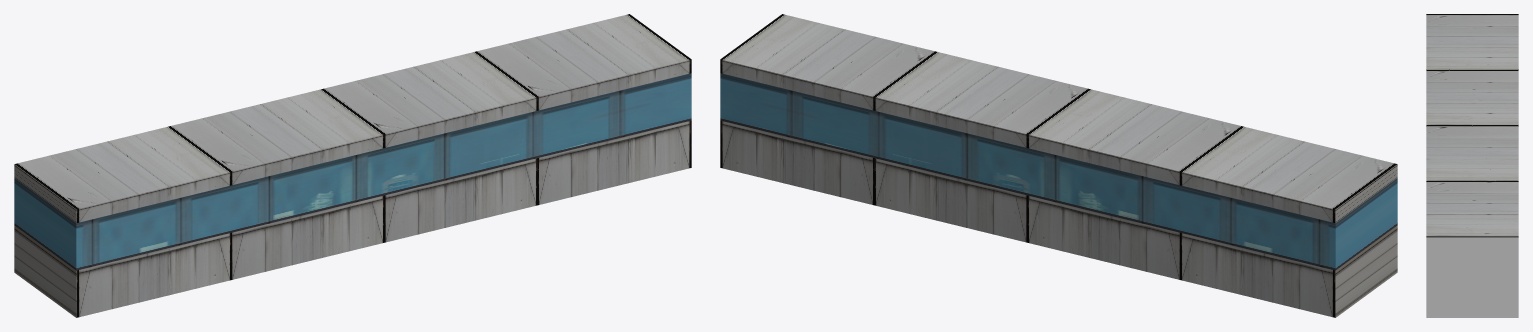
The model's file is bridge_part2.fbx.
The picture shows the model from 3 angles, left to right: view 1: azimuth 30°, elevation 25°; view 2: azimuth 150°, elevation 25°; view 3: azimuth 270°, elevation 25°; orthographic projection. The views are drawn at different scales.
Visible parts, largest first — view 1: polySurface13; view 2: polySurface13; view 3: polySurface13.
Boxes of the visible parts, box(x1,y1,x2,y2) form: polySurface13: box(14, 14, 691, 317); polySurface13: box(720, 14, 1397, 317); polySurface13: box(1426, 14, 1518, 317).
Size of the model in its own units: 13.6 by 2.29 by 2.38.
3 materials, 2 textured.
